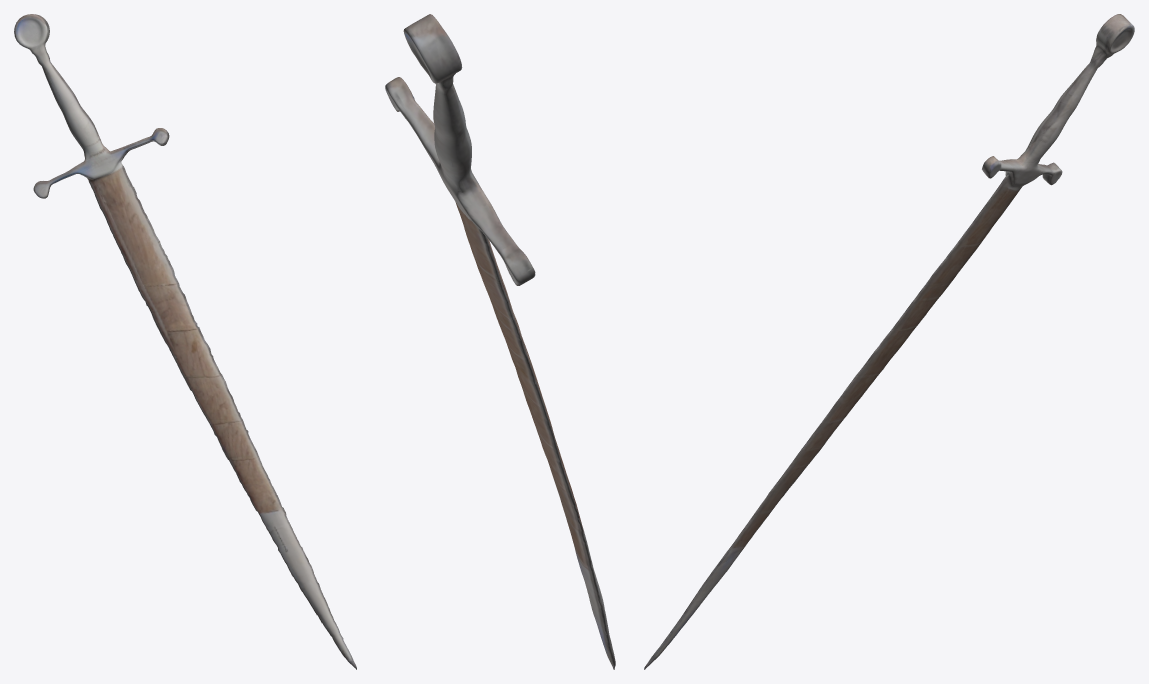
File: Steel Sword.glb
The picture shows the model from 3 angles, left to right: view 1: azimuth 30°, elevation 25°; view 2: azimuth 150°, elevation 25°; view 3: azimuth 270°, elevation 25°; orthographic projection. The views are drawn at different scales.
Parts seen in each view (by area): view 1: file1; view 2: file1; view 3: file1.
Part boxes in pixels (x1,y1,x2,y2): file1: [14, 14, 356, 669]; file1: [385, 14, 615, 669]; file1: [644, 14, 1134, 669].
Size of the model in its own units: 0.5549 by 2 by 1.5.
1 material, 1 textured.
